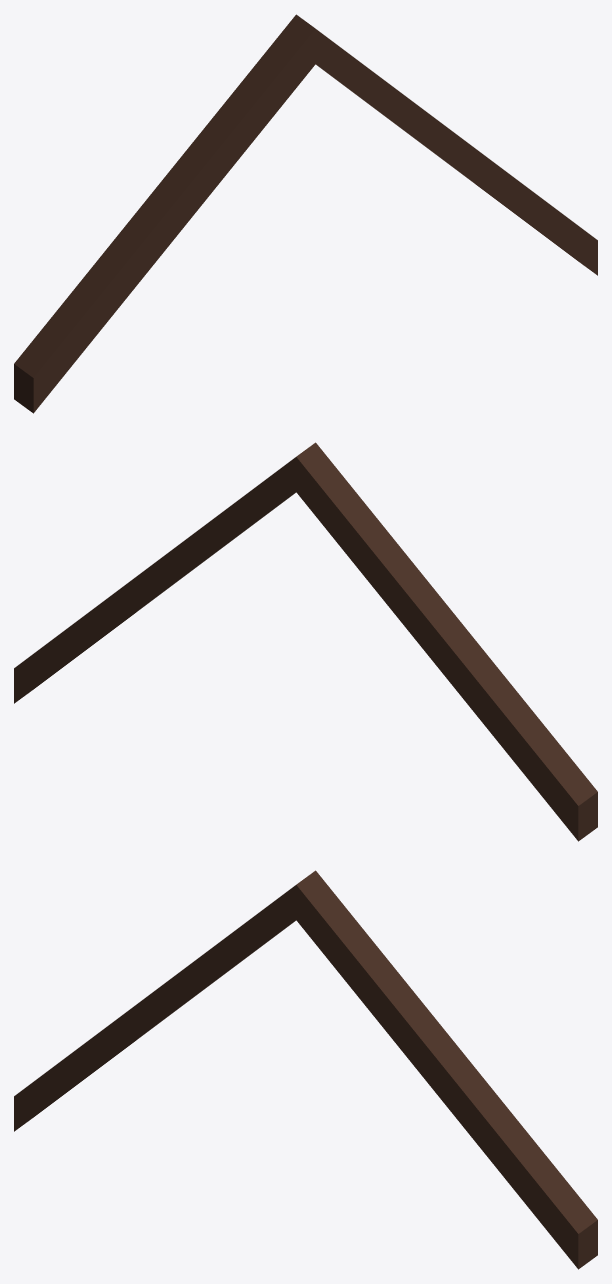
The model's file is 892_tile_gable_bargeboard_pair.fbx.
3 renders of one model, top to bottom at view 1: azimuth 30°, elevation 25°; view 2: azimuth 150°, elevation 25°; view 3: azimuth 330°, elevation 25°, orthographic.
Parts seen in each view (by area): view 1: 892_tile_gable_bargeboard_pair; view 2: 892_tile_gable_bargeboard_pair; view 3: 892_tile_gable_bargeboard_pair.
Boxes of the visible parts, box(x1,y1,x2,y2) form: 892_tile_gable_bargeboard_pair: box(14, 14, 597, 413); 892_tile_gable_bargeboard_pair: box(14, 442, 597, 841); 892_tile_gable_bargeboard_pair: box(14, 870, 597, 1269).
Size of the model in its own units: 2 by 1.07 by 0.12.
Materials: 1 (1 with a texture image).
